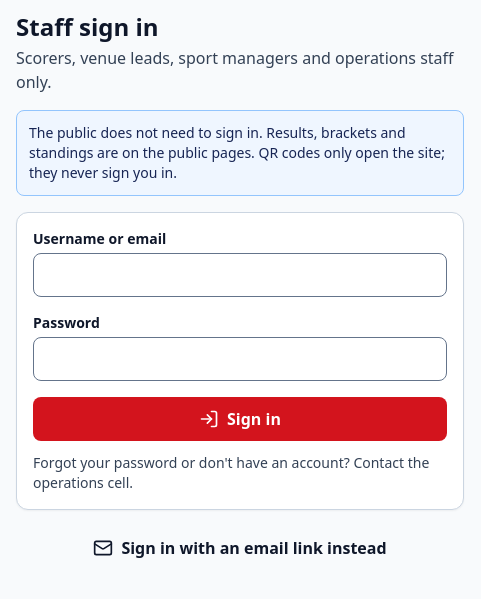
Test case: SignIn › rejects a username with spaces or symbols
Type "j smith!" into the field labelled "Username or email" at (240, 275), box [33,253,447,297]
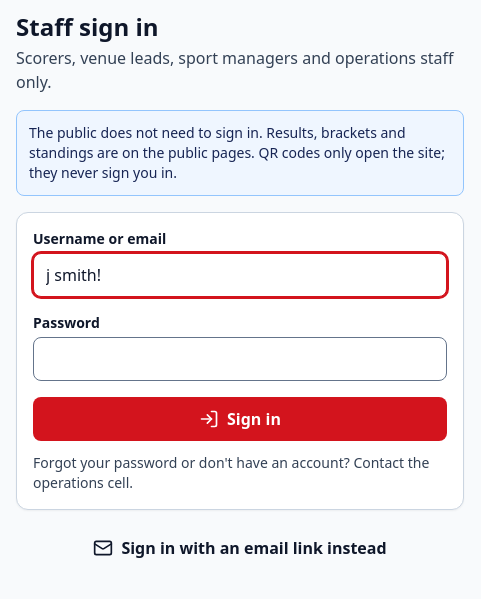
Type "x" into the password field labelled "Password" at (240, 359), box [33,337,447,381]
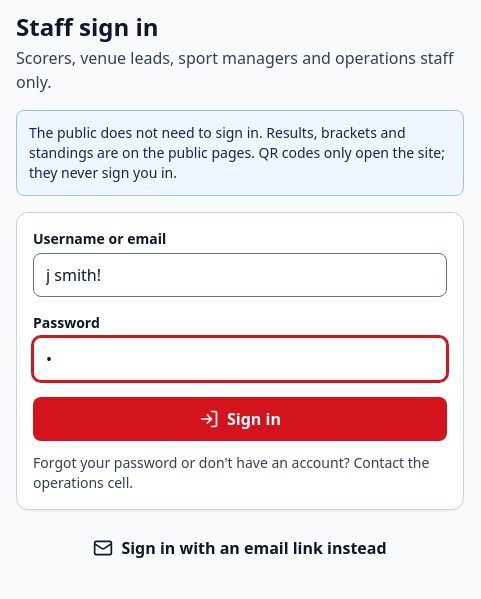
Click the button "Sign in" at (240, 419), box [33,397,447,441]
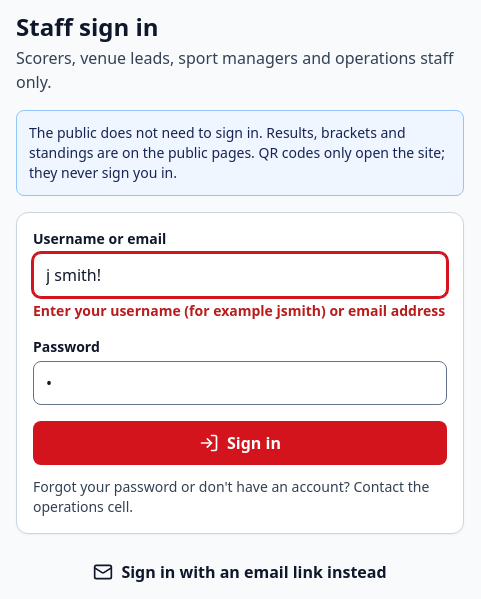
Check: the text "Enter your username (for example jsmith) or email address" is shown, box [33,301,447,321]
